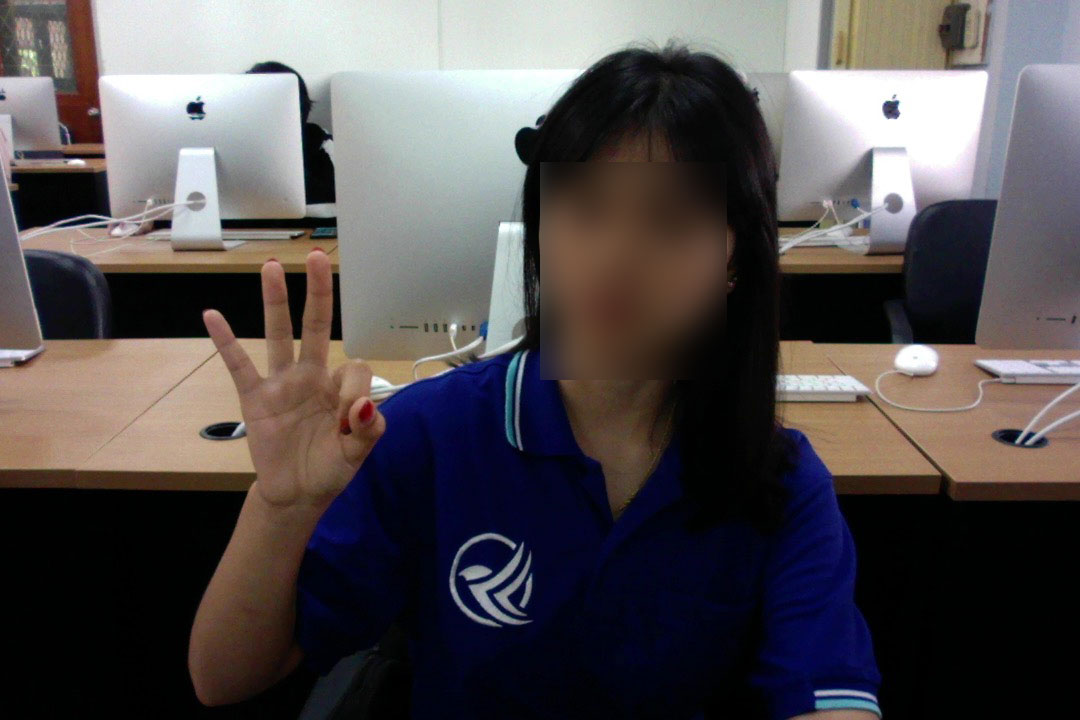for: (176, 230, 399, 545)
